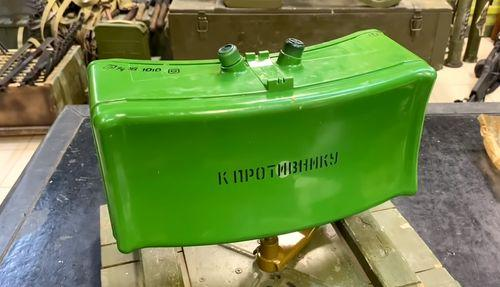MON 50: (86, 28, 437, 256)
